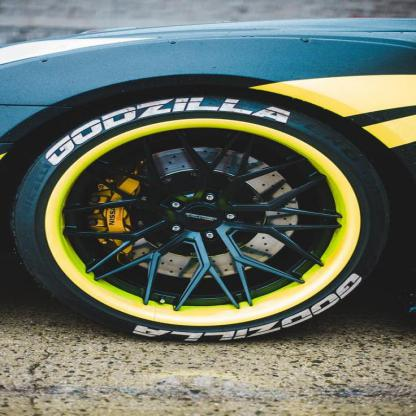Tire: (13, 94, 398, 341)
